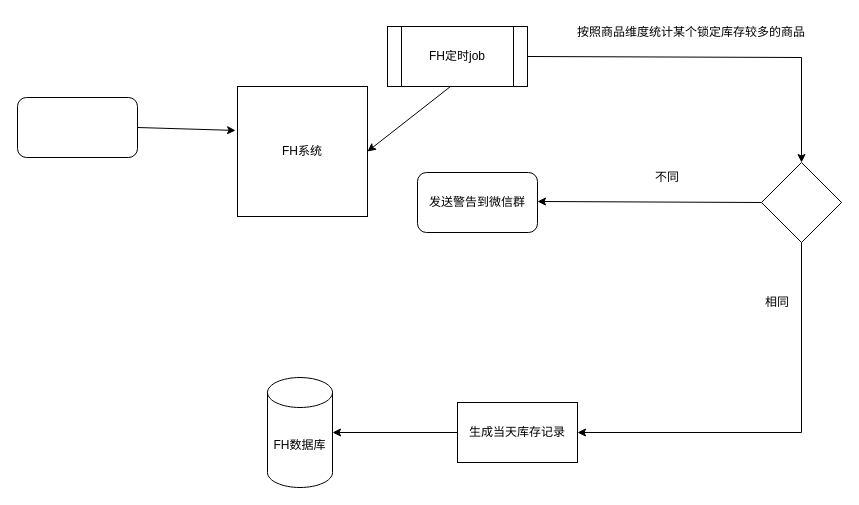
Image size: 859x505. Some labels were removed from this diagram. The shapes that lost their labels are listed below. From the top down, each one's centre as x and y in pixels, then its label:
At (x=77, y=127): "客户端".
At (x=801, y=202): "核对数据".
